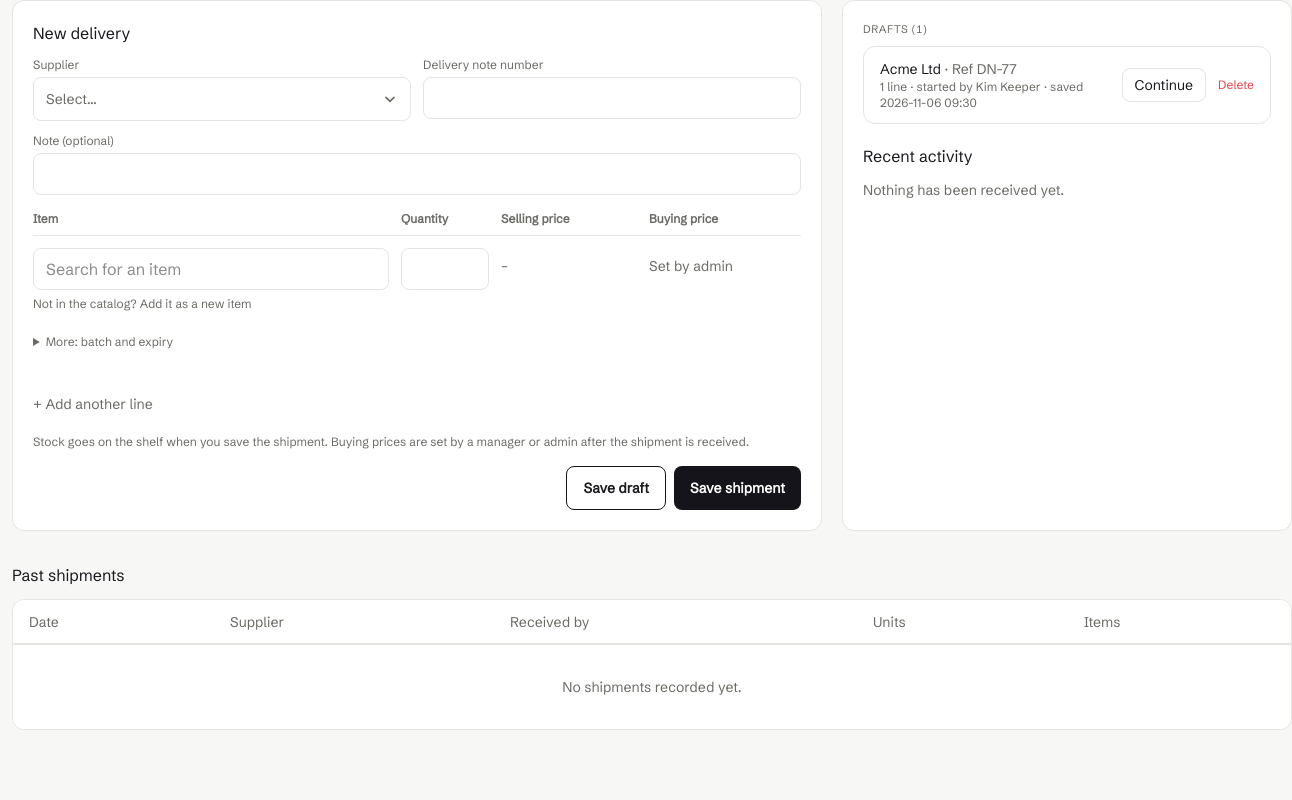
Test: Receive form › still checks the form when finishing a draft
The width and height of the screenshot is (1292, 800).
Click the button "Continue".
click(1164, 84)  # box [1122,68,1206,102]
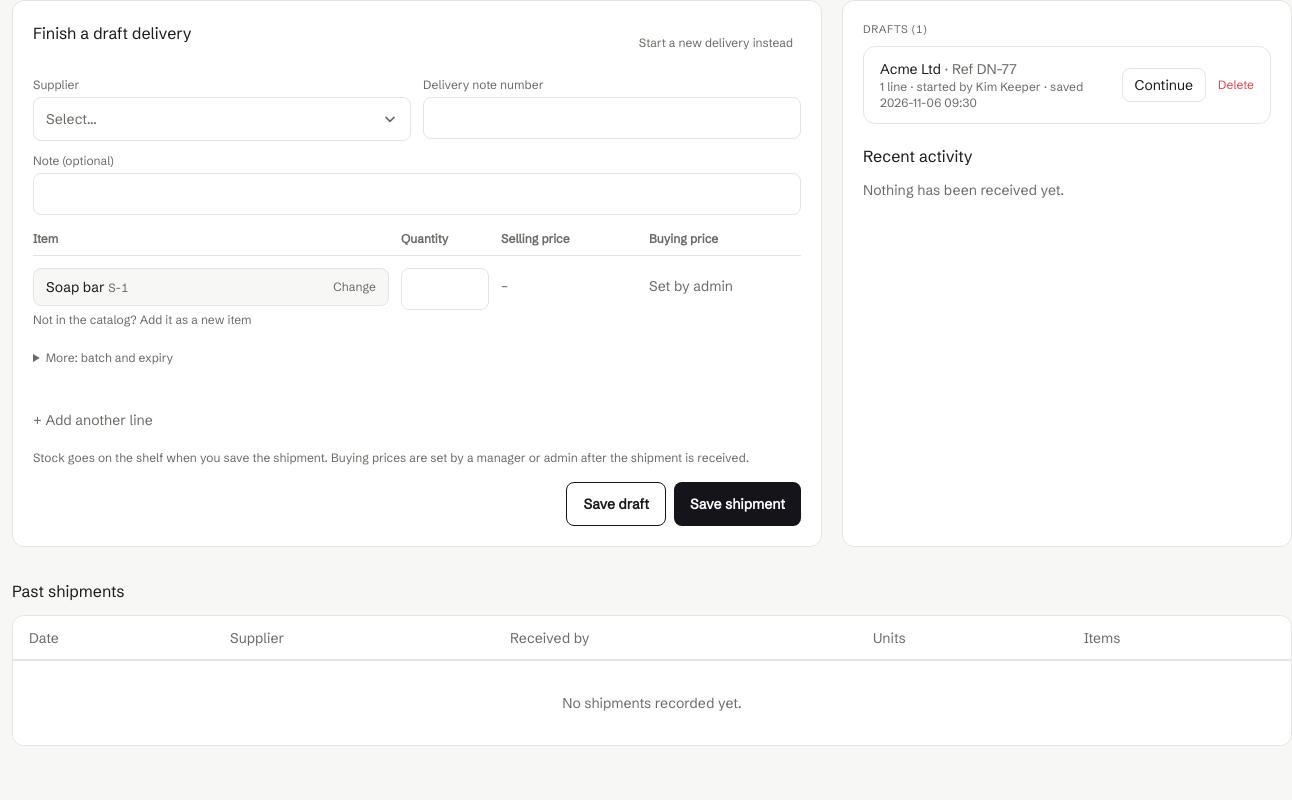
Click the button "Save shipment".
click(738, 504)  # box [674,482,801,526]
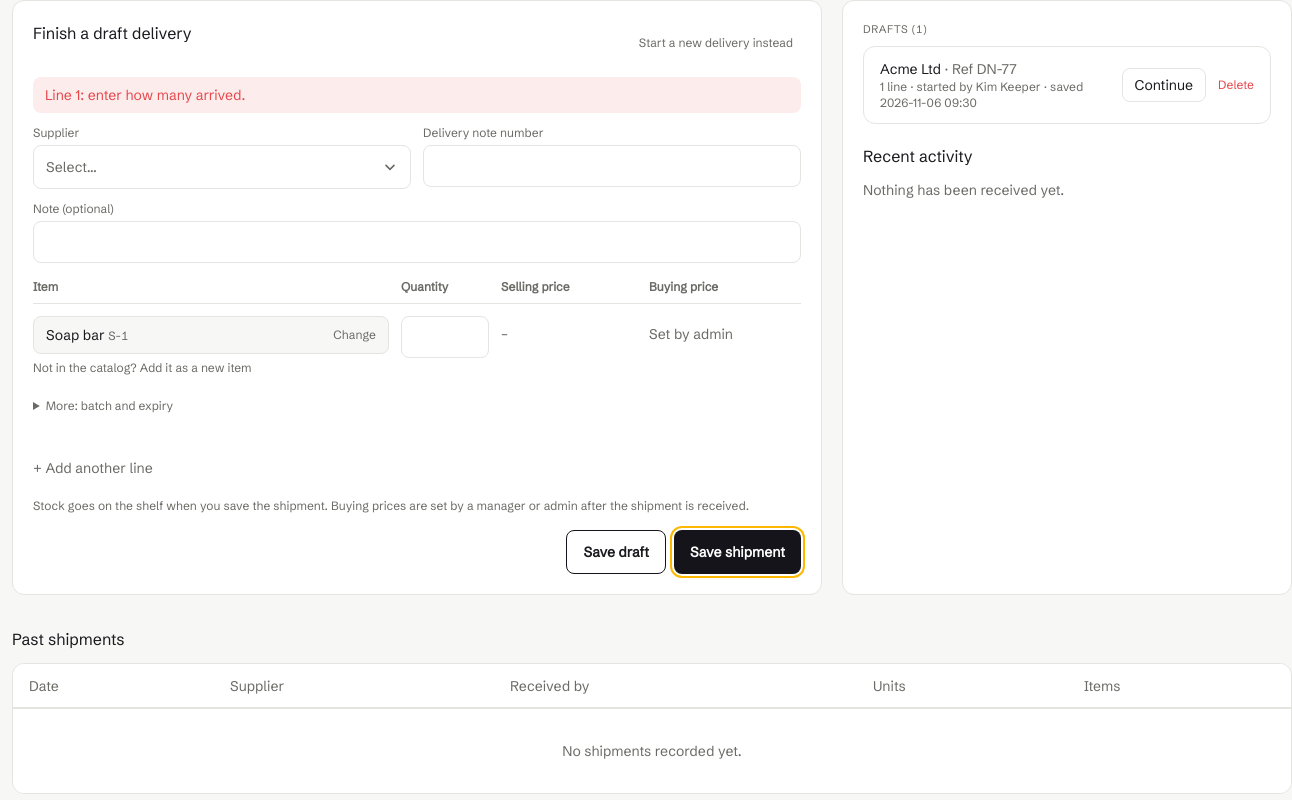
Expected: the text "Line 1: enter how many arrived." is shown, [33,77,801,113]
